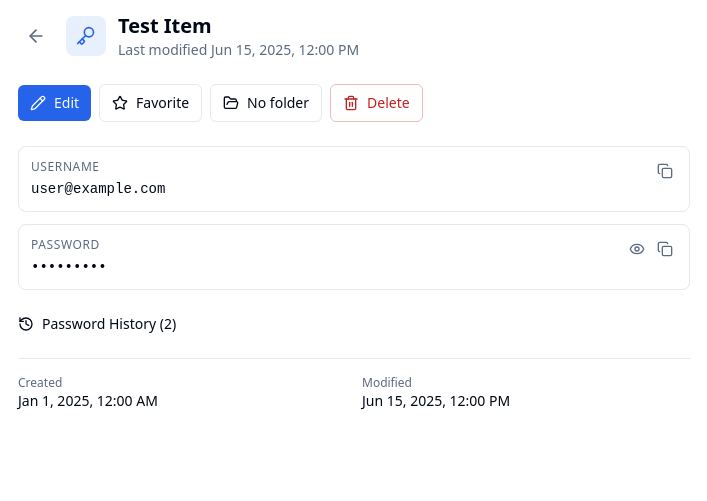
Scenario: VaultItemDetail / password history › opens a format-v2 entry against the item it belongs to, and nothing else
The image size is (707, 501).
Click the button "Password History (2)" at point(97, 324), box left=18, top=314, right=176, bottom=334
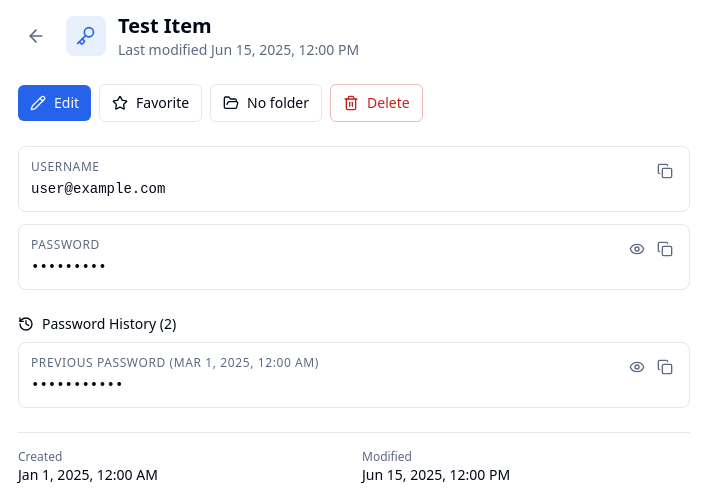
Check: the text "Previous password (Mar 1, 2025, 12:00 AM)" is shown once, box left=31, top=354, right=319, bottom=371
